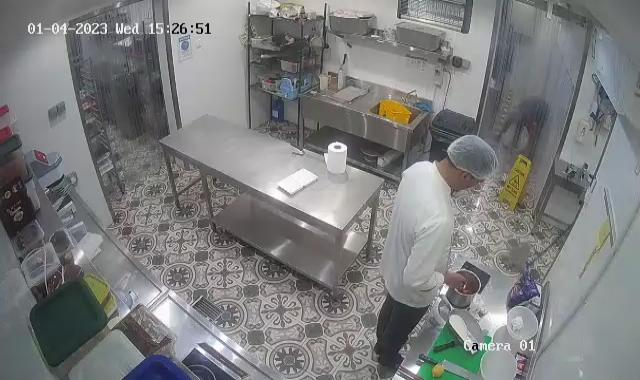hairnet: (447, 136, 499, 186)
